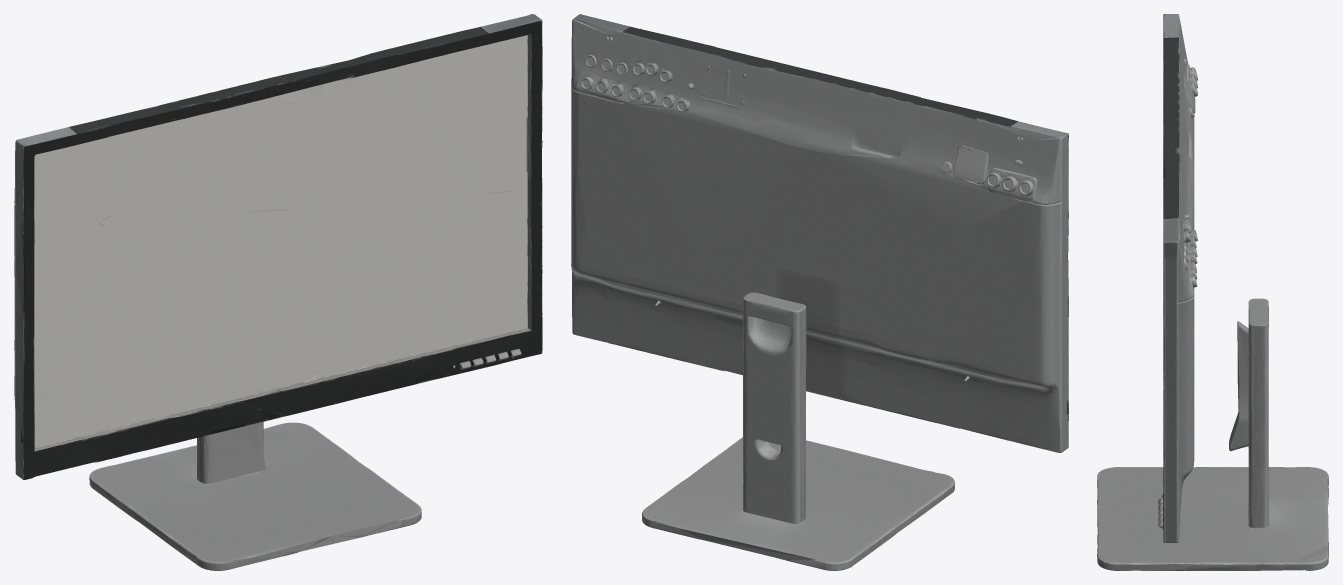
3 renders of one model, left to right at view 1: azimuth 30°, elevation 25°; view 2: azimuth 150°, elevation 25°; view 3: azimuth 270°, elevation 25°, orthographic. The views are drawn at different scales.
Size of the model in its own units: 1.9 by 1.55 by 0.8152.
Materials: 1 (1 with a texture image).
